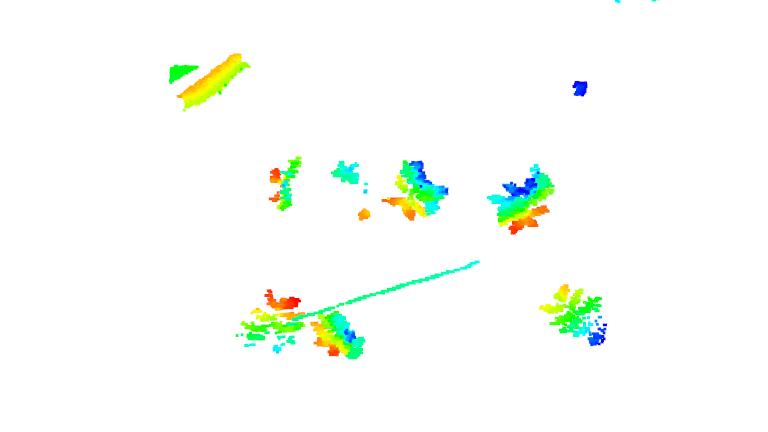chickpea: (484, 165, 558, 235), (383, 157, 453, 223), (236, 289, 306, 353), (541, 283, 609, 348), (309, 306, 367, 362), (263, 154, 301, 213), (329, 156, 363, 185)
